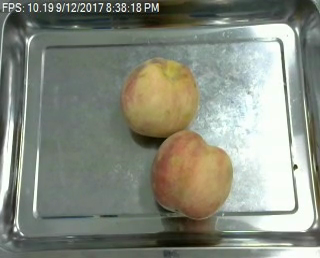Peach: (150, 130, 233, 219), (121, 57, 201, 137)
